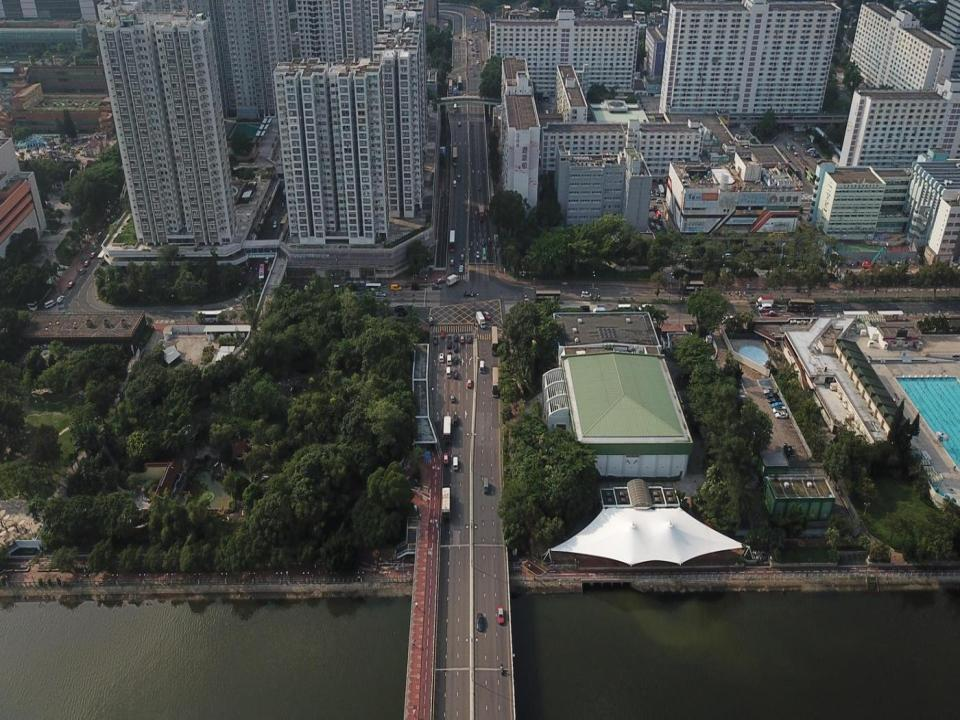bus: (785, 296, 815, 313), (534, 288, 561, 304), (678, 279, 704, 295), (196, 310, 223, 324), (491, 366, 500, 398), (258, 262, 267, 286), (491, 326, 498, 356), (448, 229, 456, 253), (364, 282, 381, 291), (615, 304, 632, 313), (452, 146, 457, 166), (448, 78, 453, 94), (458, 75, 463, 91), (452, 102, 458, 114), (452, 86, 458, 98), (482, 247, 487, 261), (656, 210, 661, 218)
car: (637, 302, 654, 313), (496, 605, 504, 625), (476, 612, 484, 632), (758, 302, 773, 312), (389, 283, 402, 292), (519, 297, 532, 306), (396, 310, 410, 318), (772, 406, 788, 413), (767, 396, 781, 404), (578, 305, 590, 314), (442, 452, 450, 465), (763, 387, 776, 395), (482, 310, 492, 320), (77, 267, 88, 276), (452, 413, 459, 427), (774, 412, 788, 419), (393, 304, 405, 312), (374, 290, 386, 298), (410, 282, 422, 290), (580, 290, 592, 298), (771, 401, 783, 409), (424, 316, 434, 325), (66, 280, 76, 289), (448, 393, 456, 404), (766, 392, 778, 399), (431, 283, 441, 291), (464, 289, 474, 297), (721, 252, 731, 260), (56, 294, 64, 304), (764, 310, 777, 316), (83, 258, 91, 267), (89, 250, 98, 258), (435, 277, 445, 284), (453, 369, 459, 380), (446, 339, 452, 350), (264, 253, 270, 264), (466, 378, 472, 388), (438, 352, 444, 362), (452, 356, 458, 366), (453, 342, 459, 352), (453, 332, 459, 342), (459, 334, 465, 344), (466, 334, 472, 344), (271, 220, 278, 228), (440, 329, 446, 338), (433, 336, 438, 346), (487, 236, 492, 246), (655, 197, 662, 204), (280, 200, 286, 208), (458, 265, 464, 273), (475, 251, 480, 260), (452, 179, 457, 188), (655, 223, 661, 230), (649, 221, 655, 228), (650, 215, 657, 221), (481, 238, 486, 246), (450, 258, 454, 266), (460, 253, 464, 261), (456, 174, 460, 181), (478, 185, 482, 191), (458, 122, 462, 127)
truck: (440, 486, 451, 520), (442, 415, 452, 443), (755, 294, 774, 308), (475, 310, 486, 329), (446, 273, 459, 287), (591, 306, 606, 317), (478, 205, 485, 222), (657, 184, 664, 197)
van: (43, 298, 56, 310), (483, 476, 489, 495), (452, 456, 459, 470), (479, 359, 485, 374), (446, 354, 452, 366), (446, 366, 451, 378), (654, 188, 660, 196)
